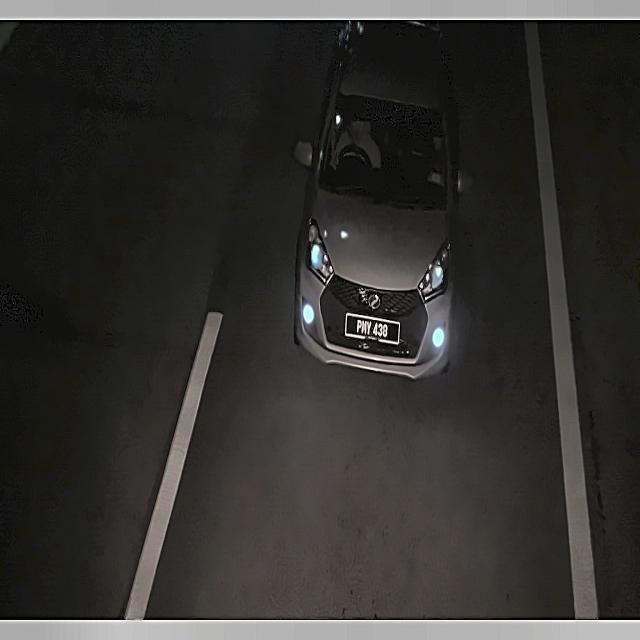car: (341, 304, 404, 349)
